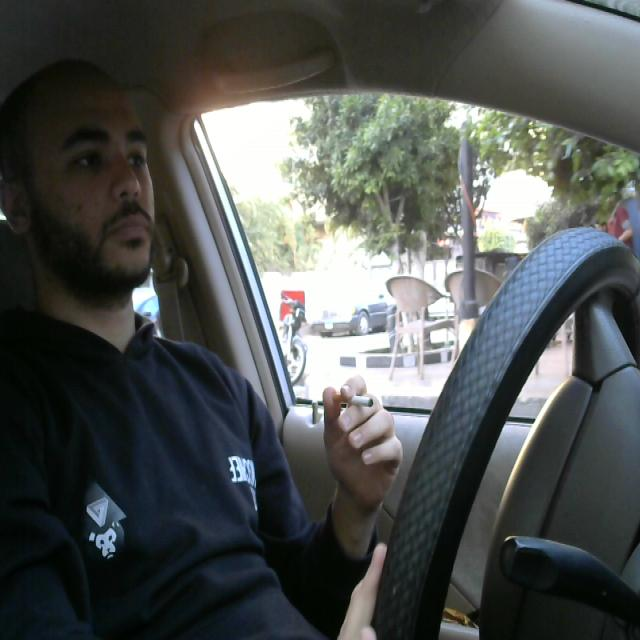smoking: (325, 381, 379, 415)
